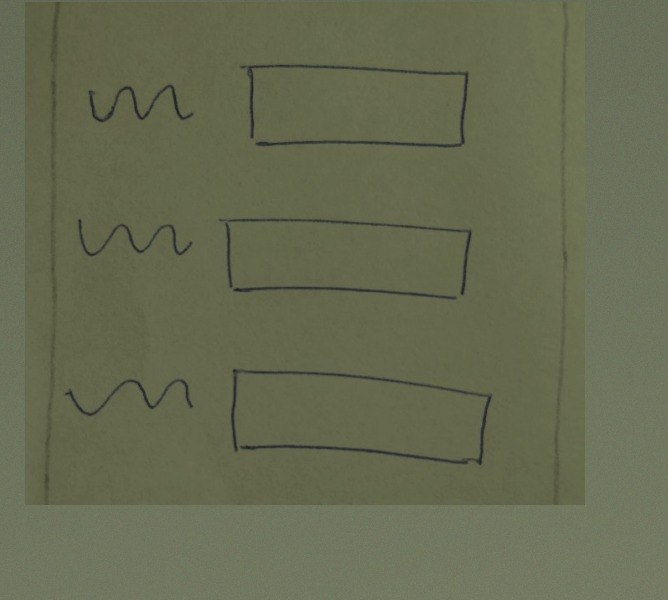text: (69, 205, 202, 267), (59, 370, 197, 427), (82, 73, 194, 135)
text_input: (226, 366, 499, 468), (235, 56, 475, 155), (215, 215, 475, 305)
